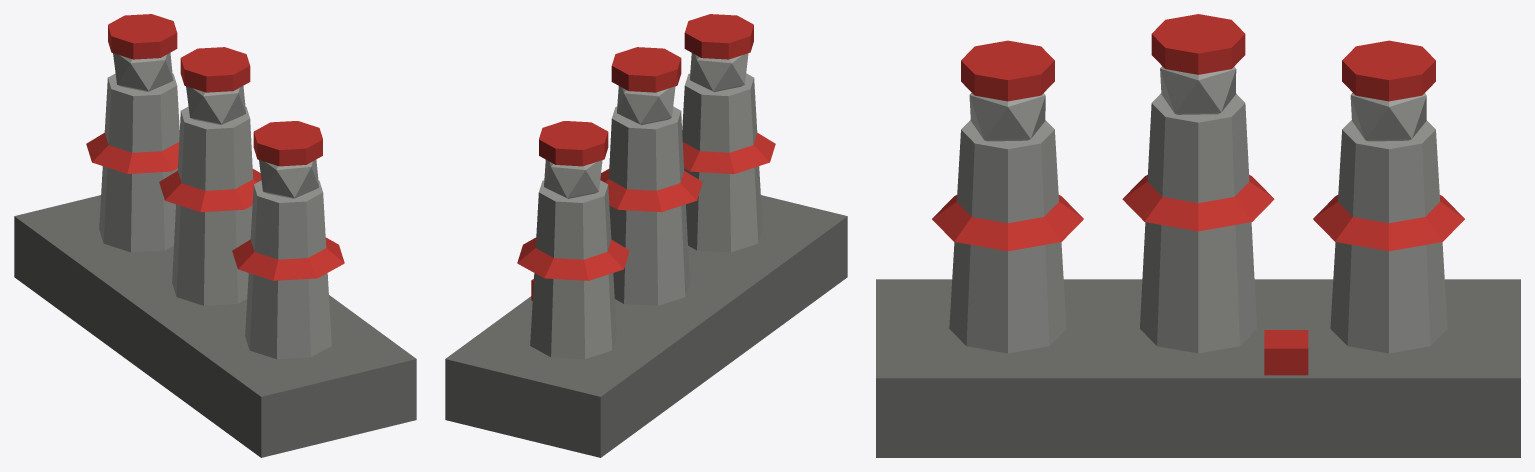
Rendered from jizo.glb.
3 views of the same model, side by side, from view 1: azimuth 30°, elevation 25°; view 2: azimuth 150°, elevation 25°; view 3: azimuth 270°, elevation 25° (orthographic). The views are drawn at different scales.
Visible parts, largest first — view 1: jizo; view 2: jizo; view 3: jizo.
Part boxes in pixels (left/top/right/bottom): jizo: left=14, top=14, right=416, bottom=457; jizo: left=445, top=14, right=847, bottom=457; jizo: left=876, top=14, right=1520, bottom=457.
Size of the model in its own units: 0.8 by 1.41 by 2.2.
